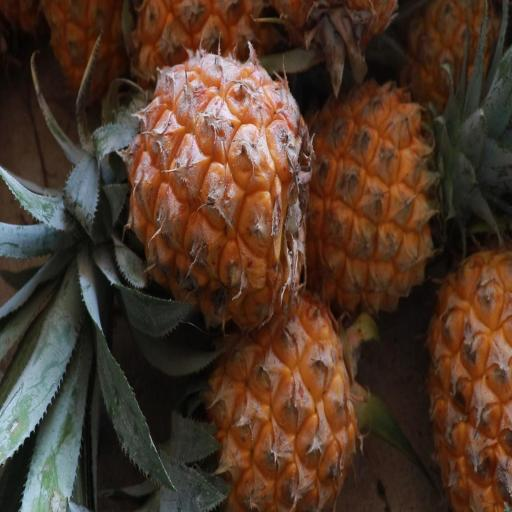Pineapple - v8 v1: (55, 38, 319, 347), (300, 70, 479, 326), (193, 287, 369, 512), (420, 223, 512, 512)
